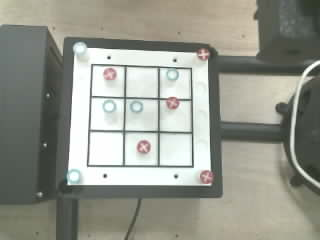blue circle: (67, 169, 80, 183), (73, 42, 86, 55), (103, 100, 116, 112), (130, 100, 142, 112), (166, 69, 178, 80)
board: (66, 48, 213, 186)
cells: (89, 132, 122, 165), (125, 133, 157, 165), (91, 98, 123, 129), (160, 134, 191, 165), (160, 100, 191, 131), (126, 99, 157, 130), (92, 66, 124, 96), (126, 67, 157, 97), (160, 68, 190, 98)
grid: (87, 64, 193, 167)
red cross: (137, 140, 150, 153), (200, 170, 213, 183), (103, 68, 117, 80), (166, 97, 179, 109), (197, 48, 209, 60)
